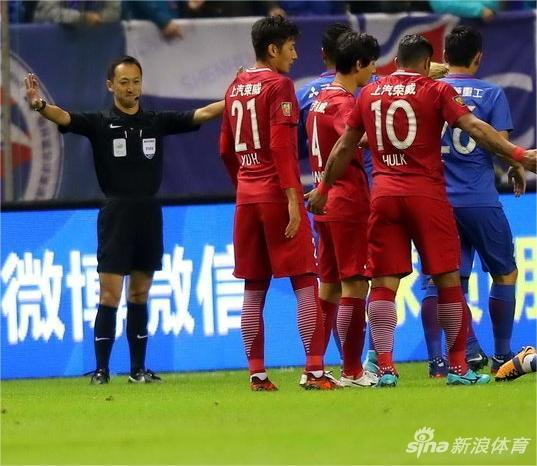up: (18, 48, 236, 401), (322, 28, 514, 388), (213, 15, 332, 399), (436, 27, 537, 381), (305, 30, 384, 396)
